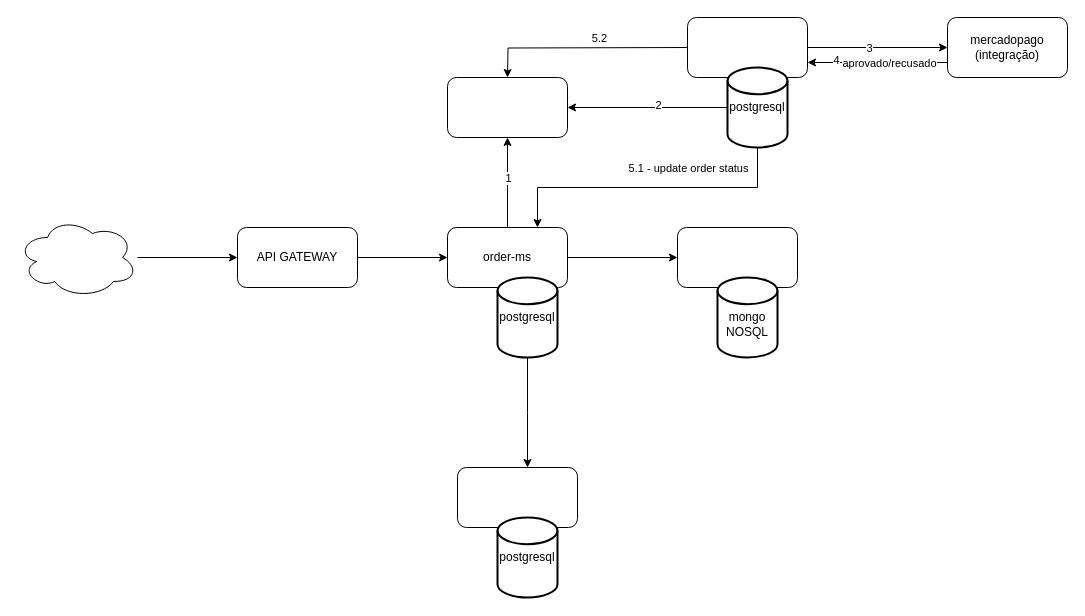
This 1085x616 diagram has some shape labels left out. Each missing label, with the centre of its shape:
Amazon SQS payment: the point at 507,107
catalog-ms: the point at 517,497
payment-ms: the point at 747,47
user-ms: the point at 737,257
